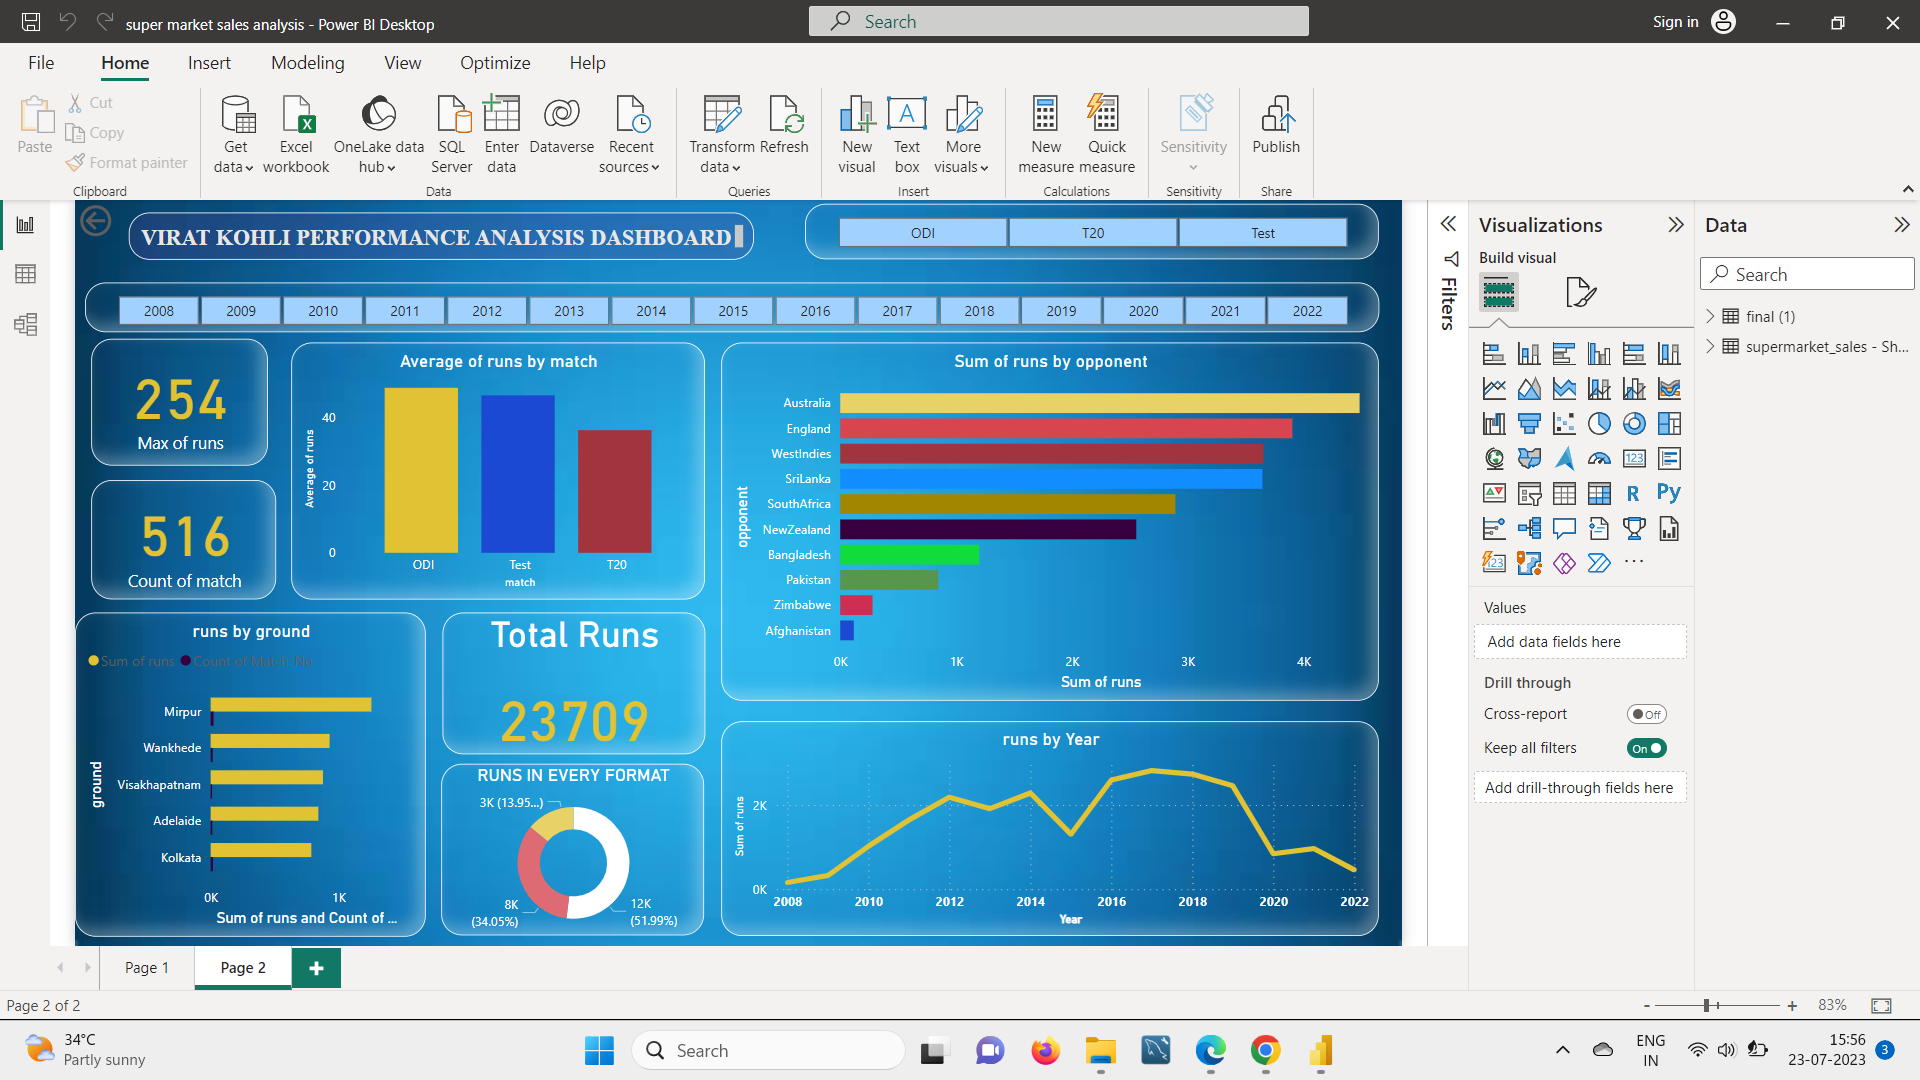

Layout of this report page (visuals, bound fields, positions):
{"tool":"powerbi","page":{"name":"Page 2","canvas":[1280,720],"ordinal":0},"visuals":[{"type":"textbox","box":[52.1,12.3,603.3,45.2],"z":0},{"type":"slicer","fields":{"Values":["final (1).date.Variation.Date Hierarchy.Year"]},"box":[9.6,79.5,1249,48],"z":1000},{"type":"slicer","fields":{"Values":["final (1).match"]},"box":[704.7,4.1,553.9,53.5],"z":2000},{"type":"clusteredBarChart","title":"runs by ground","fields":{"Category":["final (1).ground"],"Y":["final (1).runs","final (1).Match_No"]},"box":[0,397.6,338.6,312.6],"z":3000},{"type":"donutChart","title":"RUNS IN EVERY FORMAT","fields":{"Category":["final (1).match"],"Y":["final (1).runs"]},"box":[353.7,544.3,253.6,165.9],"z":4000},{"type":"lineChart","title":"runs by Year","fields":{"Category":["final (1).date.Variation.Date Hierarchy.Year"],"Y":["final (1).runs"]},"box":[623.8,503.2,634.8,207],"z":5000},{"type":"cardVisual","title":"Total Runs","fields":{"Data":["final (1).runs"]},"box":[355.1,397.6,253.6,137.1],"z":6000},{"type":"clusteredBarChart","fields":{"Category":["final (1).opponent"],"Y":["final (1).runs"]},"box":[623.8,137.1,634.8,345.5],"z":7000},{"type":"card","fields":{"Values":["final (1).match"]},"box":[15.1,270.1,178.2,115.2],"z":8000},{"type":"card","fields":{"Values":["final (1).runs"]},"box":[15.1,134.4,170,122],"z":9000},{"type":"actionButton","box":[0,0,100,40],"z":10000},{"type":"clusteredColumnChart","fields":{"Category":["final (1).match"],"Y":["final (1).runs"]},"box":[208.4,137.1,399,248.2],"z":11000}]}

Visuals, with their boxes on the page's 1280x720 design canvas (x1, y1, x2, y2). These are canvas units, not pixel positions in the 1920x1080 screenshot, which may show the page scaled, cropped or inside an application window:
textbox: x1=52, y1=12, x2=655, y2=58
slicer - final (1).date.Variation.Date Hierarchy.Year: x1=10, y1=80, x2=1259, y2=128
slicer - final (1).match: x1=705, y1=4, x2=1259, y2=58
"runs by ground" clusteredBarChart: x1=0, y1=398, x2=339, y2=710
"RUNS IN EVERY FORMAT" donutChart: x1=354, y1=544, x2=607, y2=710
"runs by Year" lineChart: x1=624, y1=503, x2=1259, y2=710
"Total Runs" cardVisual: x1=355, y1=398, x2=609, y2=535
clusteredBarChart - final (1).opponent x final (1).runs: x1=624, y1=137, x2=1259, y2=483
card - final (1).match: x1=15, y1=270, x2=193, y2=385
card - final (1).runs: x1=15, y1=134, x2=185, y2=256
actionButton: x1=0, y1=0, x2=100, y2=40
clusteredColumnChart - final (1).match x final (1).runs: x1=208, y1=137, x2=607, y2=385
